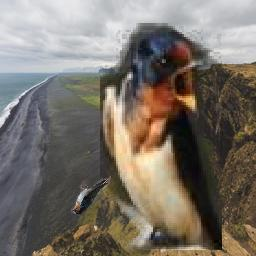Swallow: (100, 24, 222, 251), (71, 176, 111, 214)
